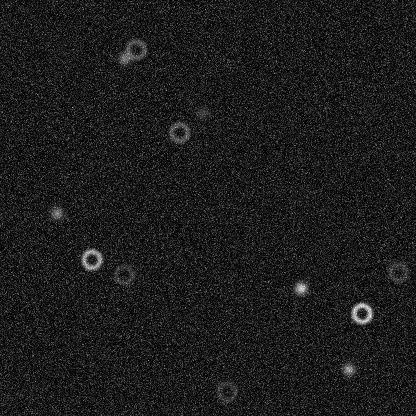Ring: (386, 259, 410, 283), (79, 247, 103, 271), (111, 262, 135, 286), (167, 120, 191, 144), (214, 379, 238, 403), (349, 301, 373, 325), (123, 37, 147, 61)
Spot: (340, 361, 356, 377), (193, 104, 209, 120), (116, 50, 132, 66), (48, 205, 64, 221), (292, 280, 308, 296)
